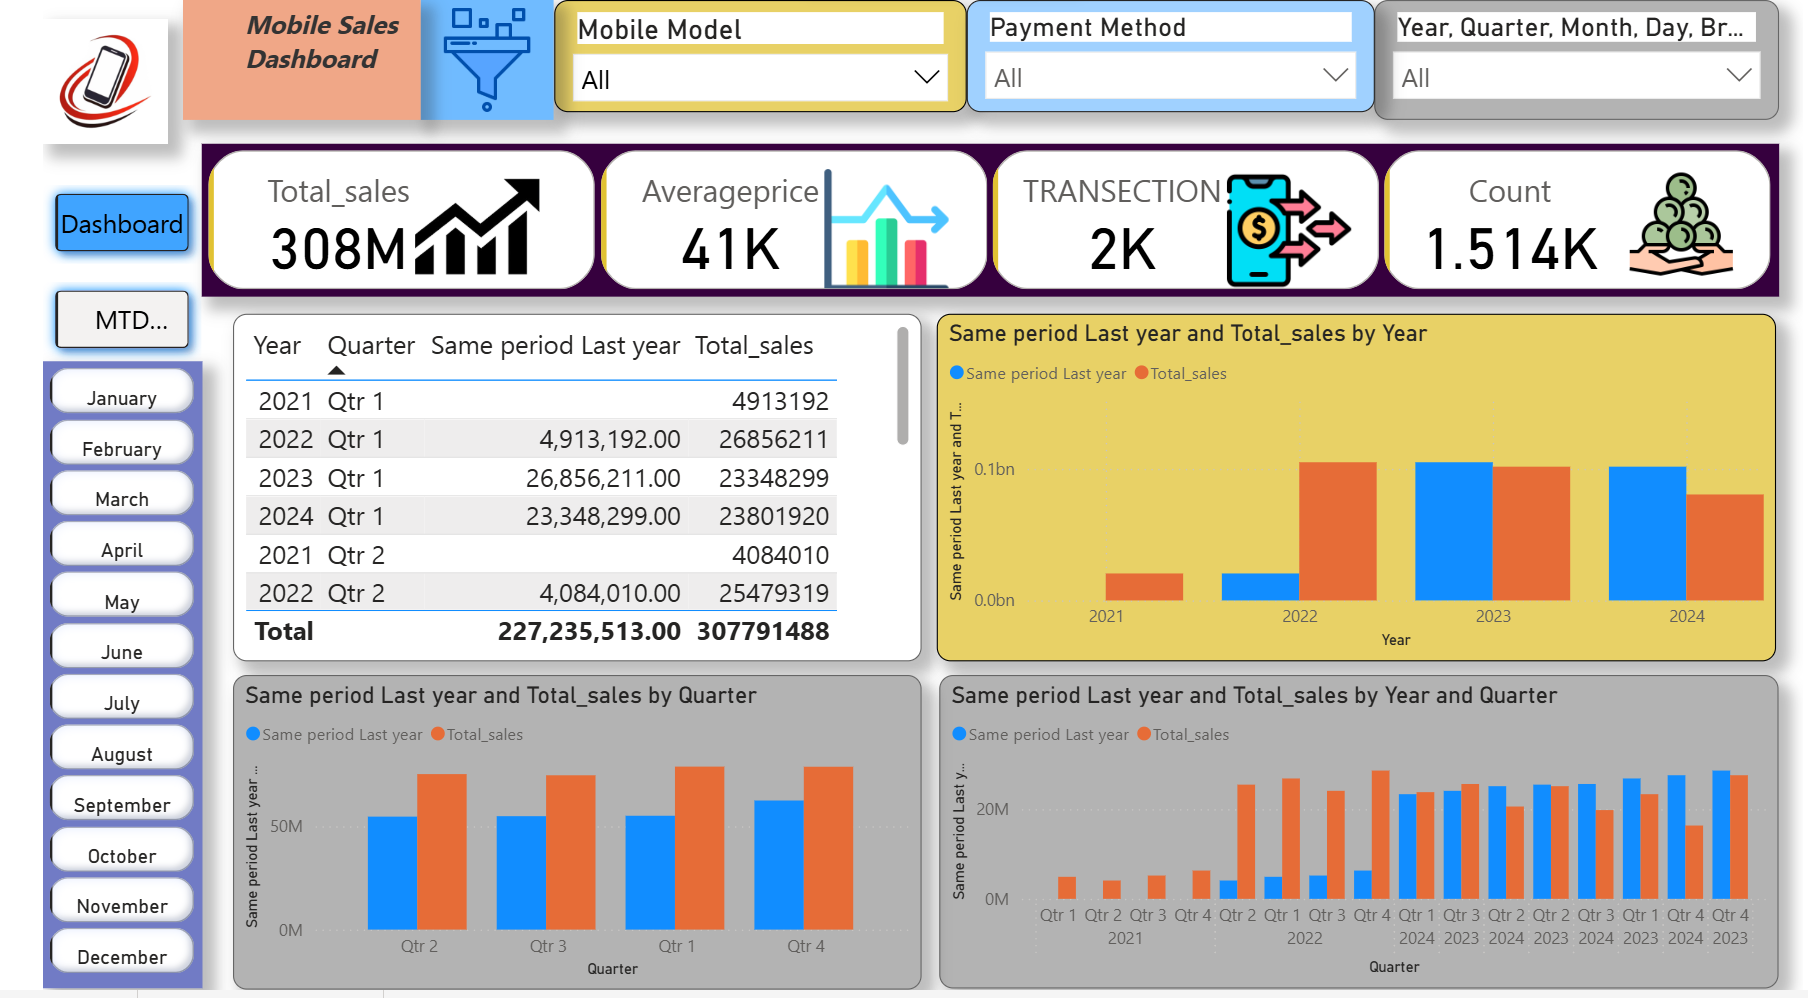

The dashboard page shown, as its layout file describes it:
{"tool":"powerbi","page":{"name":"Same period Last year","canvas":[1280,720],"ordinal":2},"visuals":[{"type":"image","box":[0,13.3,91.1,91.1],"z":0},{"type":"cardVisual","fields":{"Data":["Mobile_sale_Data.Total_sales","Mobile_sale_Data.Averageprice","Mobile_sale_Data.TRANSECTION","CountNonNull(Mobile_sale_Data.Units Sold)"]},"box":[115.7,104.3,1147.1,111.4],"z":1000},{"type":"slicer","fields":{"Values":["Mobile_sale_Data.Mobile Model"]},"box":[371.4,0,300,81.4],"z":2000},{"type":"slicer","fields":{"Values":["customer_ calender.Date.Variation.Date Hierarchy.Year","customer_ calender.Date.Variation.Date Hierarchy.Quarter","customer_ calender.Date.Variation.Date Hierarchy.Month","customer_ calender.Date.Variation.Date Hierarchy.Day","Mobile_sale_Data.Brand"]},"box":[968.6,0,294.3,87.1],"z":3000},{"type":"slicer","fields":{"Values":["Mobile_sale_Data.Payment Method"]},"box":[671.4,0,297.1,81.4],"z":4000},{"type":"image","box":[274.3,0,97.1,87.1],"z":5000},{"type":"textbox","box":[101.4,0,172.9,87.1],"z":6000},{"type":"tableEx","fields":{"Values":["customer_ calender.Date.Variation.Date Hierarchy.Year","customer_ calender.Date.Variation.Date Hierarchy.Quarter","Mobile_sale_Data.Same period Last year","Mobile_sale_Data.Total_sales"]},"box":[138.6,227.8,500.9,252.5],"z":7000},{"type":"clusteredColumnChart","fields":{"Category":["customer_ calender.Date.Variation.Date Hierarchy.Year","customer_ calender.Date.Variation.Date Hierarchy.Quarter"],"Y":["Mobile_sale_Data.Same period Last year","Mobile_sale_Data.Total_sales"]},"box":[650.4,227.8,610.6,252.5],"z":8000},{"type":"advancedSlicerVisual","fields":{"Values":["cousrom calender.Date.Variation.Date Hierarchy.Month"]},"box":[0,262.9,115.7,455.7],"z":9000},{"type":"clusteredColumnChart","fields":{"Category":["customer_ calender.Date.Variation.Date Hierarchy.Year","customer_ calender.Date.Variation.Date Hierarchy.Quarter"],"Y":["Mobile_sale_Data.Same period Last year","Mobile_sale_Data.Total_sales"]},"box":[651.8,491.3,610.6,227.8],"z":10000},{"type":"clusteredColumnChart","fields":{"Category":["customer_ calender.Date.Variation.Date Hierarchy.Year","customer_ calender.Date.Variation.Date Hierarchy.Quarter"],"Y":["Mobile_sale_Data.Same period Last year","Mobile_sale_Data.Total_sales"]},"box":[138.6,491.3,500.9,229.2],"z":11000},{"type":"pageNavigator","box":[0,131.7,115.3,131.7],"z":12000}]}

Visuals, with their boxes in screenshot pixels (x1, y1, x2, y2), scaled from the page's 1280x720 canvas onto the 1808x998 screenshot:
image: 0, 18, 129, 145
cardVisual - Mobile_sale_Data.Total_sales x Mobile_sale_Data.Averageprice: 163, 145, 1784, 299
slicer - Mobile_sale_Data.Mobile Model: 525, 0, 948, 113
slicer - customer_ calender.Date.Variation.Date Hierarchy.Year x customer_ calender.Date.Variation.Date Hierarchy.Quarter: 1368, 0, 1784, 121
slicer - Mobile_sale_Data.Payment Method: 948, 0, 1368, 113
image: 387, 0, 525, 121
textbox: 143, 0, 387, 121
tableEx - customer_ calender.Date.Variation.Date Hierarchy.Year x customer_ calender.Date.Variation.Date Hierarchy.Quarter: 196, 316, 903, 666
clusteredColumnChart - customer_ calender.Date.Variation.Date Hierarchy.Year x customer_ calender.Date.Variation.Date Hierarchy.Quarter: 919, 316, 1781, 666
advancedSlicerVisual - cousrom calender.Date.Variation.Date Hierarchy.Month: 0, 364, 163, 996
clusteredColumnChart - customer_ calender.Date.Variation.Date Hierarchy.Year x customer_ calender.Date.Variation.Date Hierarchy.Quarter: 921, 681, 1783, 997
clusteredColumnChart - customer_ calender.Date.Variation.Date Hierarchy.Year x customer_ calender.Date.Variation.Date Hierarchy.Quarter: 196, 681, 903, 997
pageNavigator: 0, 183, 163, 365
